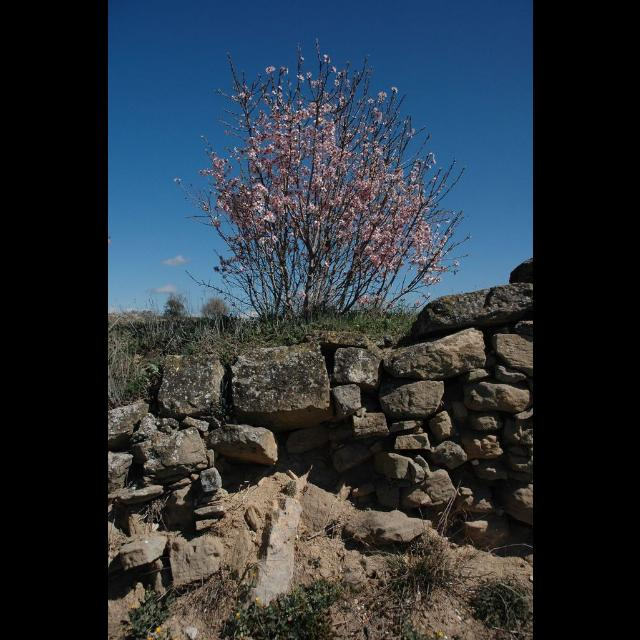Flower: (205, 52, 460, 298), (262, 64, 276, 74)
